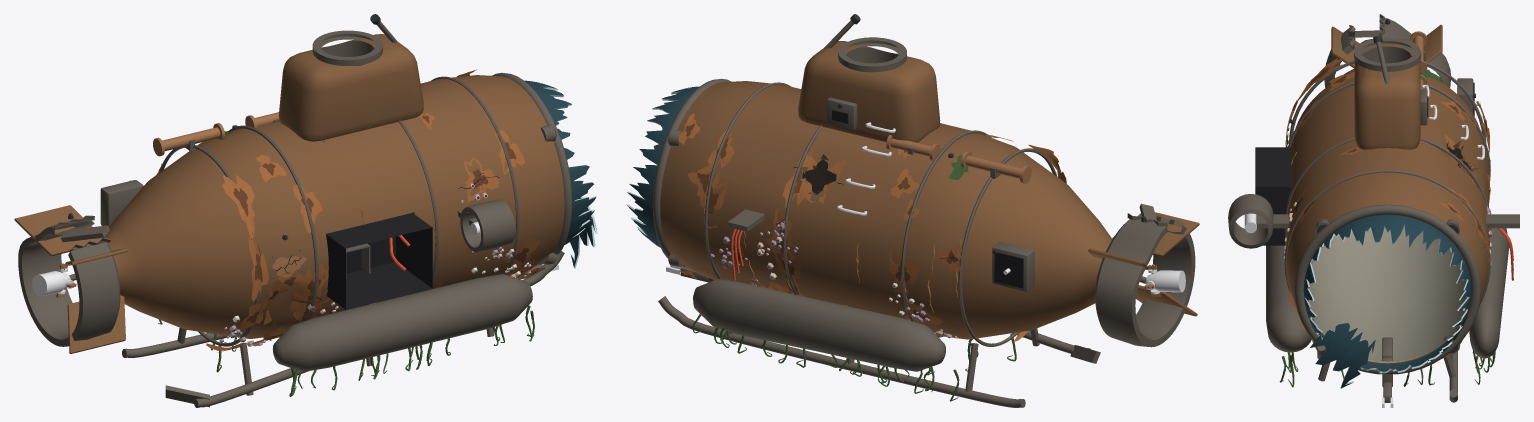
The model's file is SM_Submarine_Rusted.fbx.
The picture shows the model from 3 angles, left to right: view 1: azimuth 30°, elevation 25°; view 2: azimuth 150°, elevation 25°; view 3: azimuth 270°, elevation 25°; orthographic projection. The views are drawn at different scales.
Visible parts, largest first — view 1: SM_Submarine_Rusted; view 2: SM_Submarine_Rusted; view 3: SM_Submarine_Rusted.
Boxes of the visible parts, left/top/right/bottom form: SM_Submarine_Rusted: left=14, top=14, right=597, bottom=407; SM_Submarine_Rusted: left=626, top=14, right=1199, bottom=407; SM_Submarine_Rusted: left=1228, top=14, right=1519, bottom=407.
Size of the model in its own units: 6.62 by 3.87 by 3.31.
